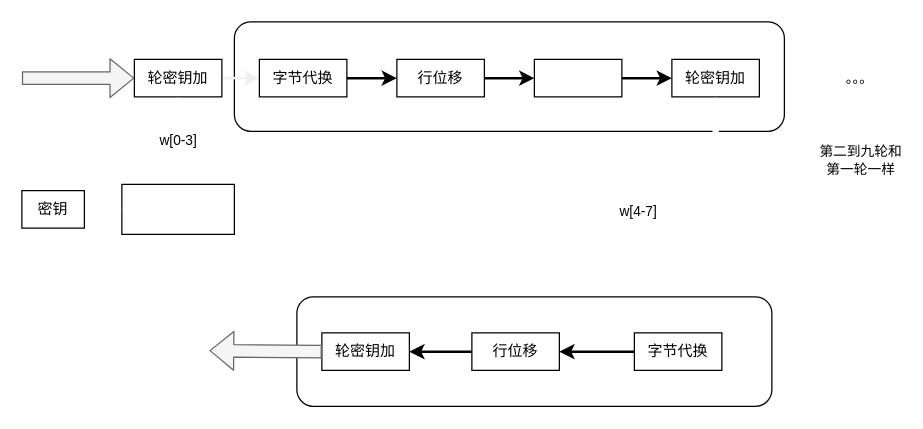
Some shapes in this 923 by 429 pixel diagram are drawn without their labels. Here are the shapes that lost their labels. From the top down, the box of each, then its label:
(233, 21, 784, 131): 第一轮
(533, 58, 622, 97): 列混合
(121, 183, 234, 234): 扩展后 W[0:44]
(296, 296, 772, 406): 第十轮
